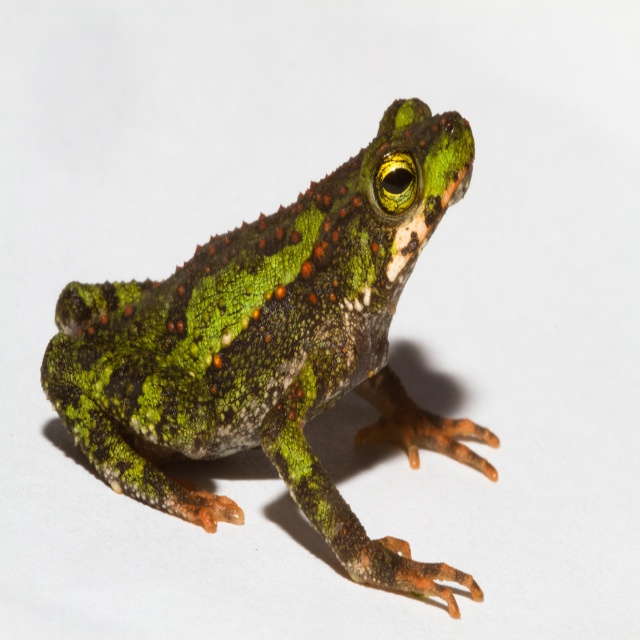Frog: (40, 92, 500, 619)
